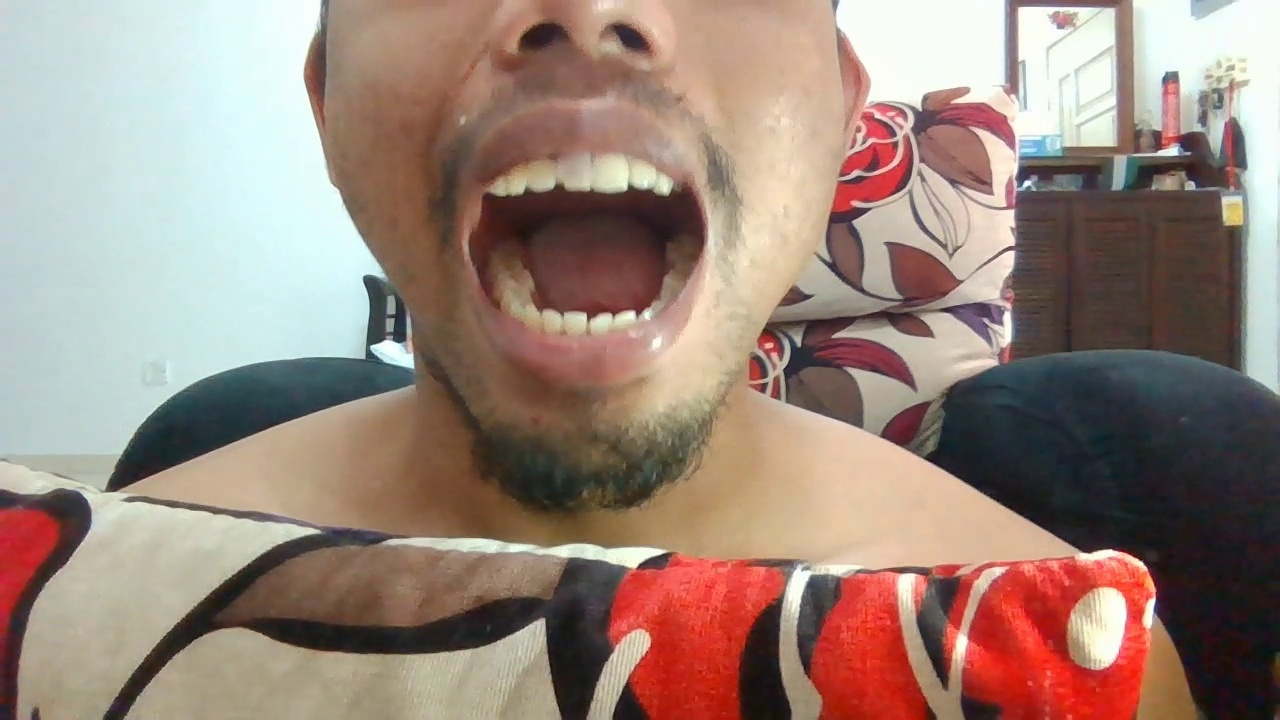1st Molar: (497, 269, 534, 291)
1st Premolar: (511, 301, 530, 319)
2nd Molar: (488, 259, 523, 272)
2nd Premolar: (500, 291, 531, 304)
Canine: (507, 162, 526, 194), (654, 171, 675, 198), (526, 307, 542, 331), (637, 307, 656, 321)
Central Incisor: (593, 152, 630, 194), (558, 151, 593, 191), (563, 310, 588, 336), (588, 310, 613, 334)
Lateral Incisor: (527, 157, 558, 192), (630, 155, 657, 189), (542, 307, 563, 334), (613, 308, 637, 328)
